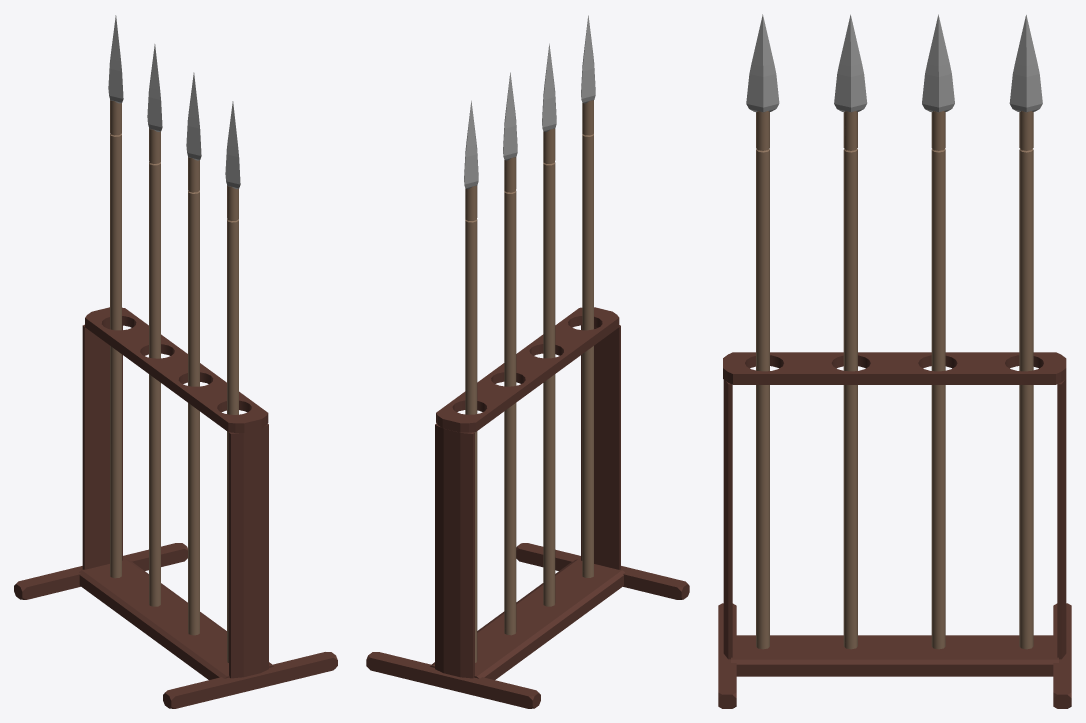
The model's file is SM_rack_spears.fbx.
3 views of the same model, side by side, from view 1: azimuth 30°, elevation 25°; view 2: azimuth 150°, elevation 25°; view 3: azimuth 270°, elevation 25° (orthographic). The views are drawn at different scales.
Visible parts, largest first — view 1: rack_spears; view 2: rack_spears; view 3: rack_spears.
Part boxes in pixels (box(x1,y1,x2,y2)): rack_spears: box(14, 15, 337, 708); rack_spears: box(366, 15, 689, 708); rack_spears: box(718, 14, 1071, 708).
Size of the model in its own units: 66.22 by 219 by 108.
